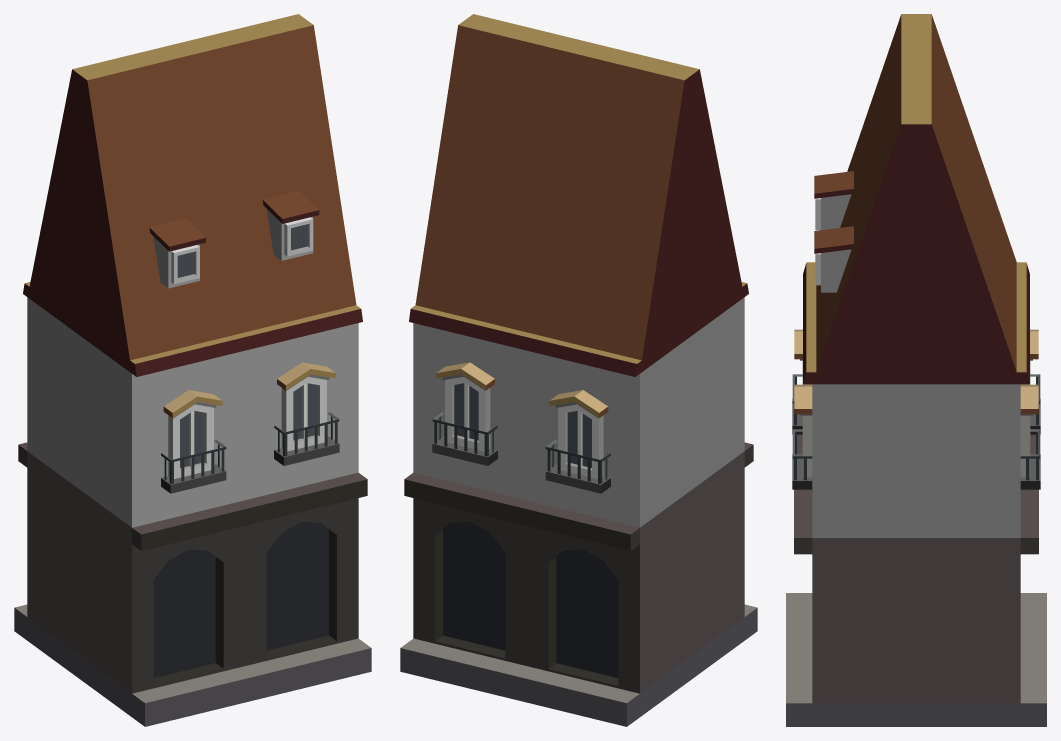
Rendered from TB_CITY_BD_T_Line_2_C.FBX.
3 views of the same model, side by side, from view 1: azimuth 30°, elevation 25°; view 2: azimuth 150°, elevation 25°; view 3: azimuth 270°, elevation 25° (orthographic).
Parts seen in each view (by area): view 1: TB_CITY_BD_T_Line_2_C; view 2: TB_CITY_BD_T_Line_2_C; view 3: TB_CITY_BD_T_Line_2_C.
Part boxes in pixels (x1=…): TB_CITY_BD_T_Line_2_C: x1=14, y1=14, x2=371, y2=726; TB_CITY_BD_T_Line_2_C: x1=400, y1=14, x2=757, y2=726; TB_CITY_BD_T_Line_2_C: x1=786, y1=14, x2=1046, y2=726.
Bounding box in the file's own units: 7.99 × 20.37 × 7.99.
